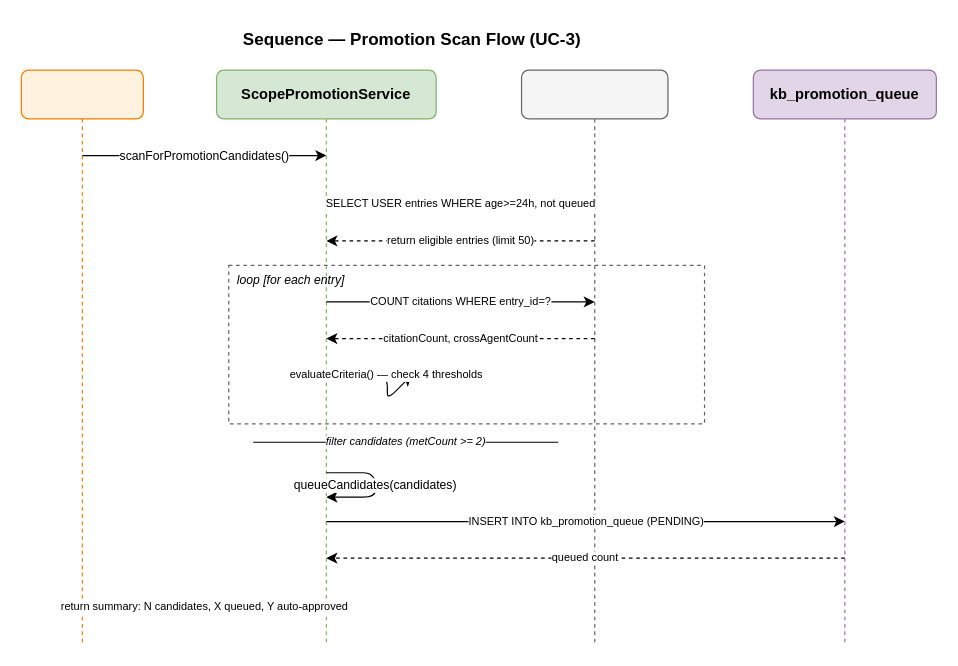
Some shapes in this 958 by 666 pixel diagram are drawn without their labels. Each missing label, with the box of its shape:
SQLite DB: (520, 69, 668, 119)
Timer: (20, 69, 143, 119)
